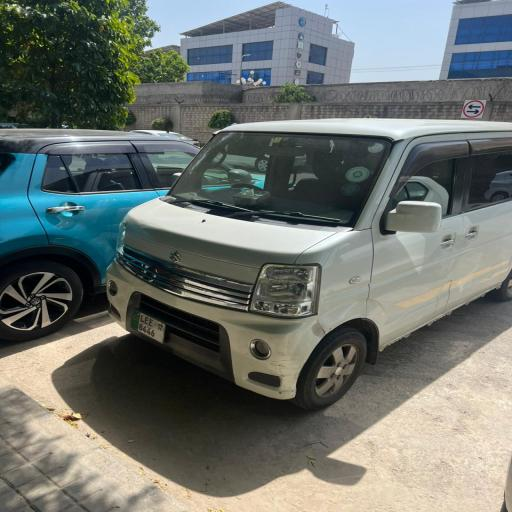number_plate: (126, 308, 168, 344)
